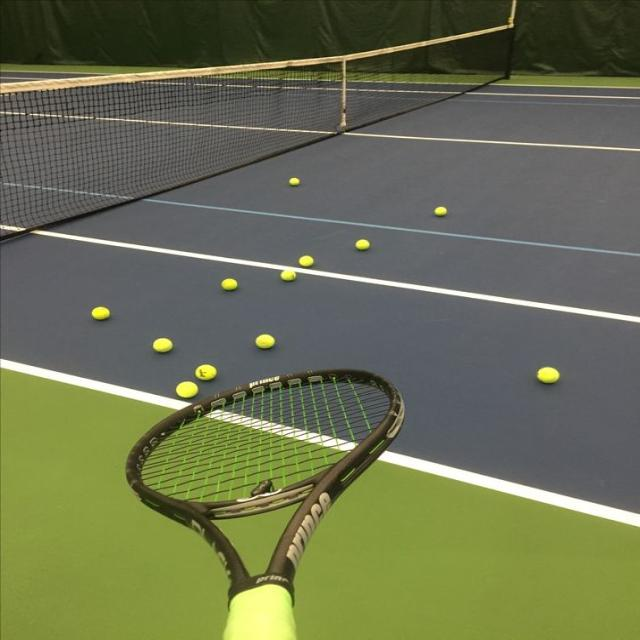tennis: (173, 379, 206, 402), (537, 364, 563, 387), (252, 333, 278, 351), (154, 335, 174, 355), (89, 305, 111, 323), (196, 364, 218, 380), (278, 268, 299, 284), (432, 204, 452, 218), (355, 237, 372, 252), (224, 276, 238, 291), (286, 174, 302, 187), (299, 255, 316, 267)
